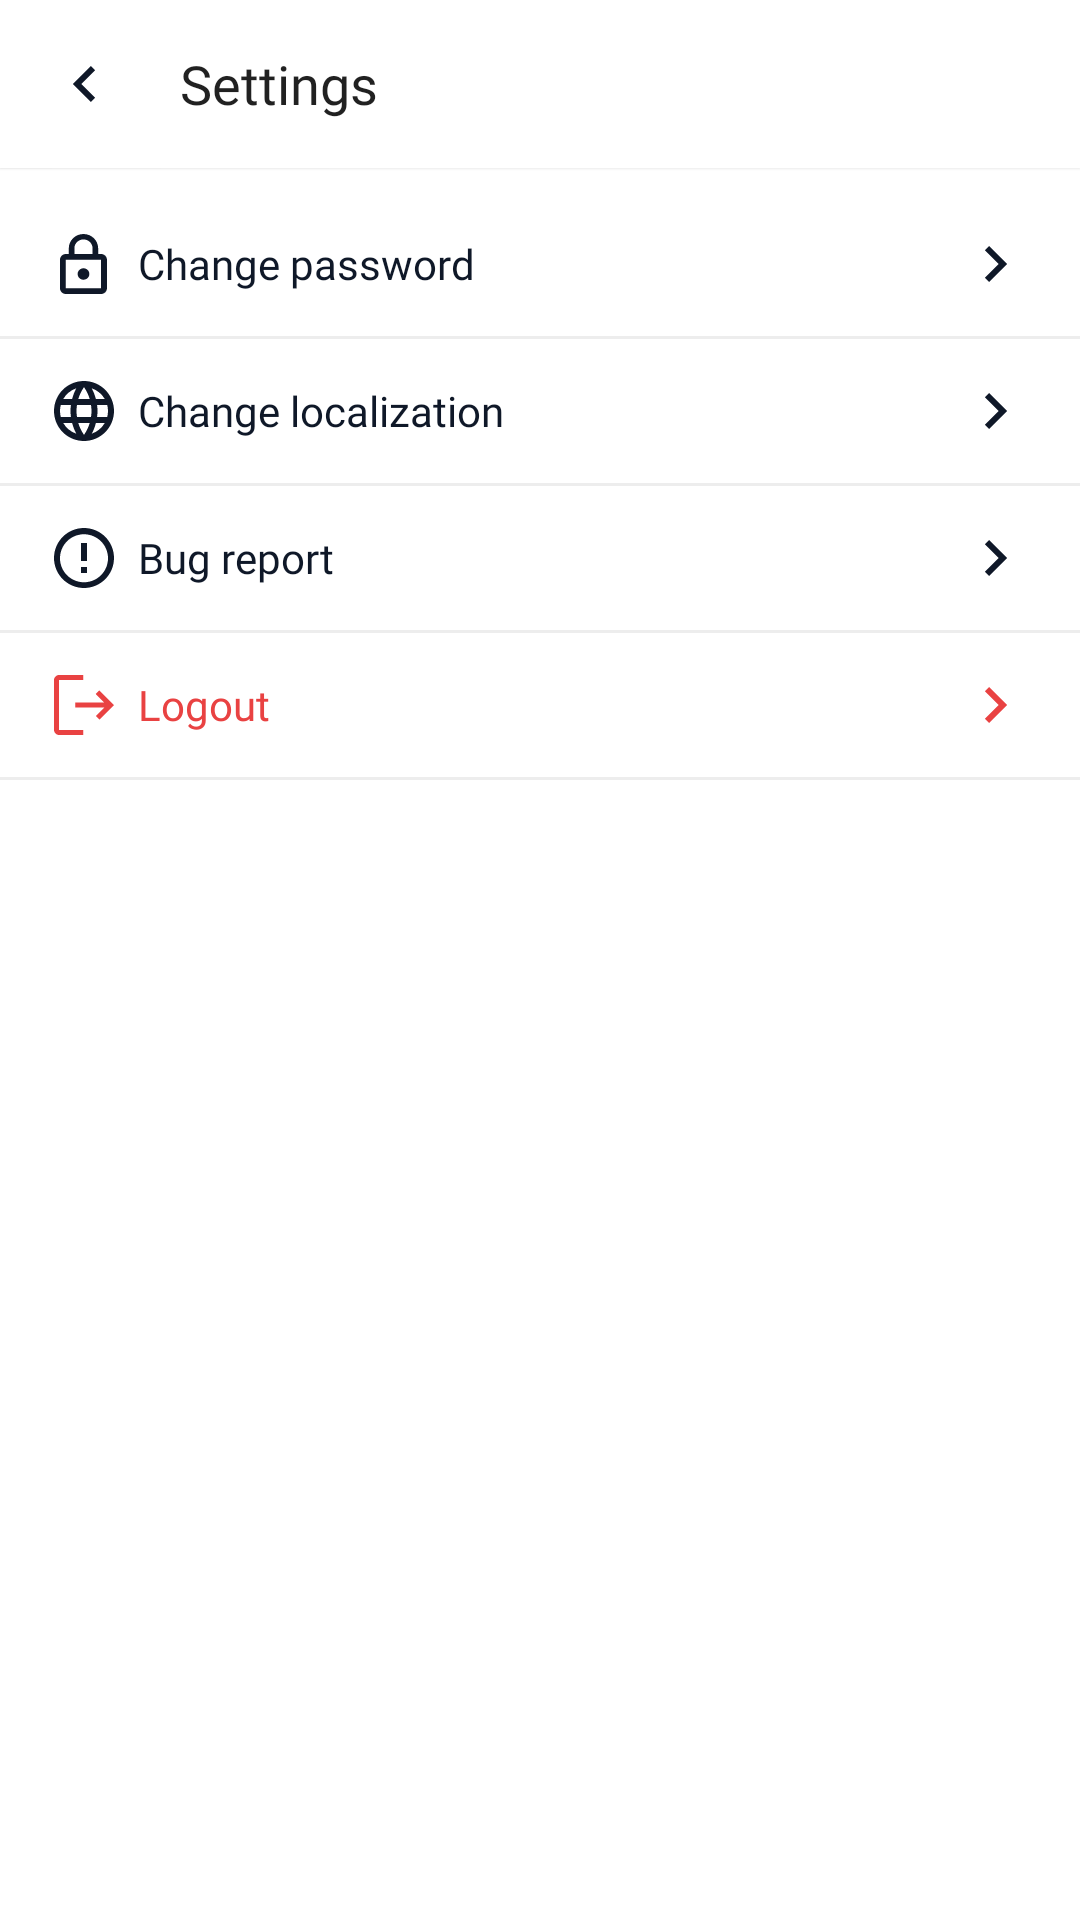

Point at icon controls on the screen. Image size 1080*1920, points as [x,y].
arrow right: [996,264], [996,411], [996,558], [996,705]
attention: [84,558]
language: [84,411]
lock: [83,264]
